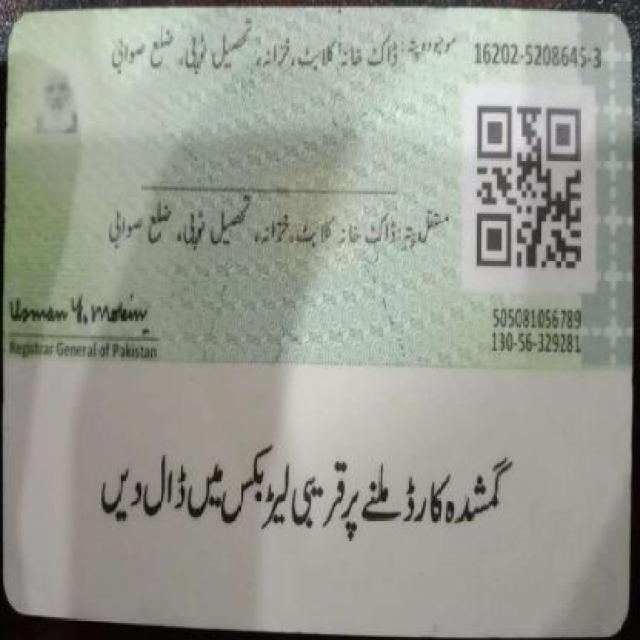Back: (8, 4, 624, 622)
